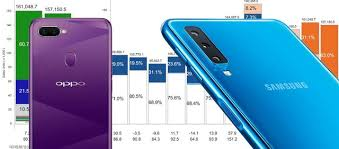oppo: (23, 16, 118, 149)
